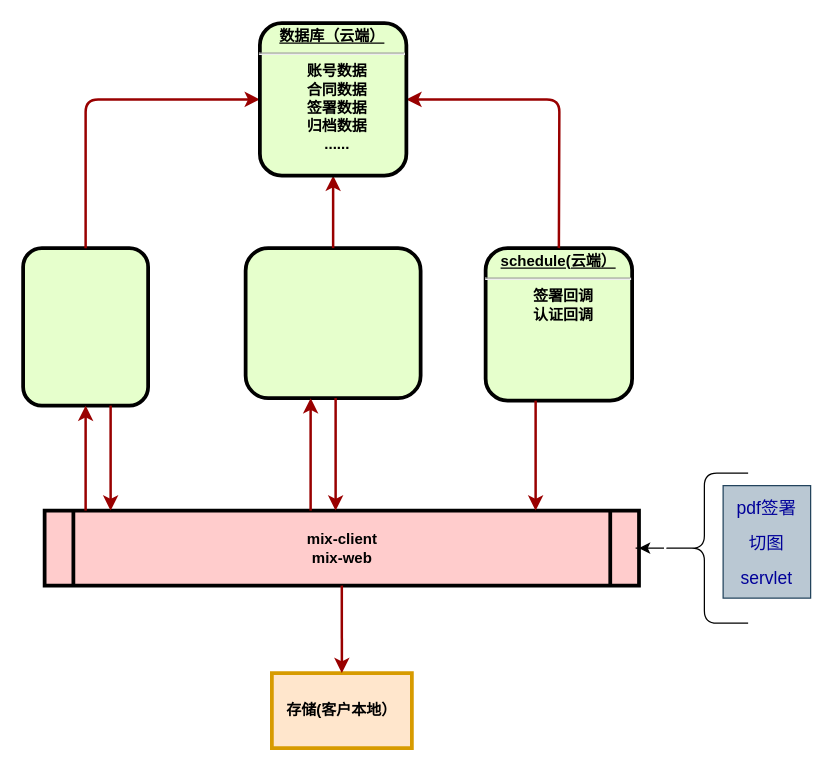
This 833x771 diagram has some shape labels left out. Here are the shapes that lost their labels. From the top down, the centre of each, then its label:
At pixel 85 326: "API 2.0 (云端） 注册 实名认证 实名存证 证书申请 印章管理".
At pixel 332 322: "mix-server(云端） 模板上传 合同上传 合同查看、签署、下载 归档".
